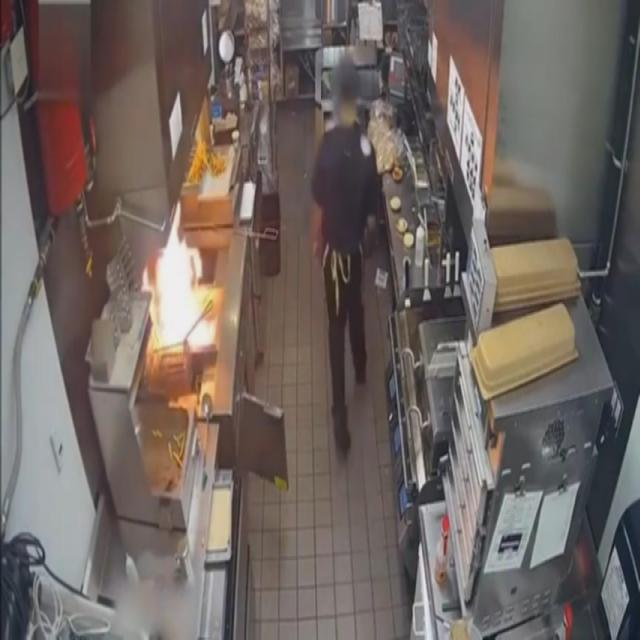fire: (133, 207, 228, 381)
